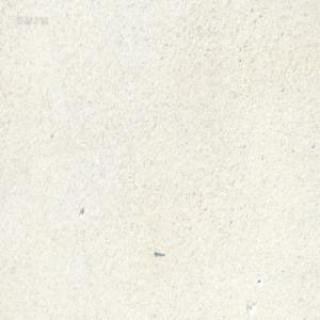Nailtrack_idkeyframe: (152, 248, 164, 256)
